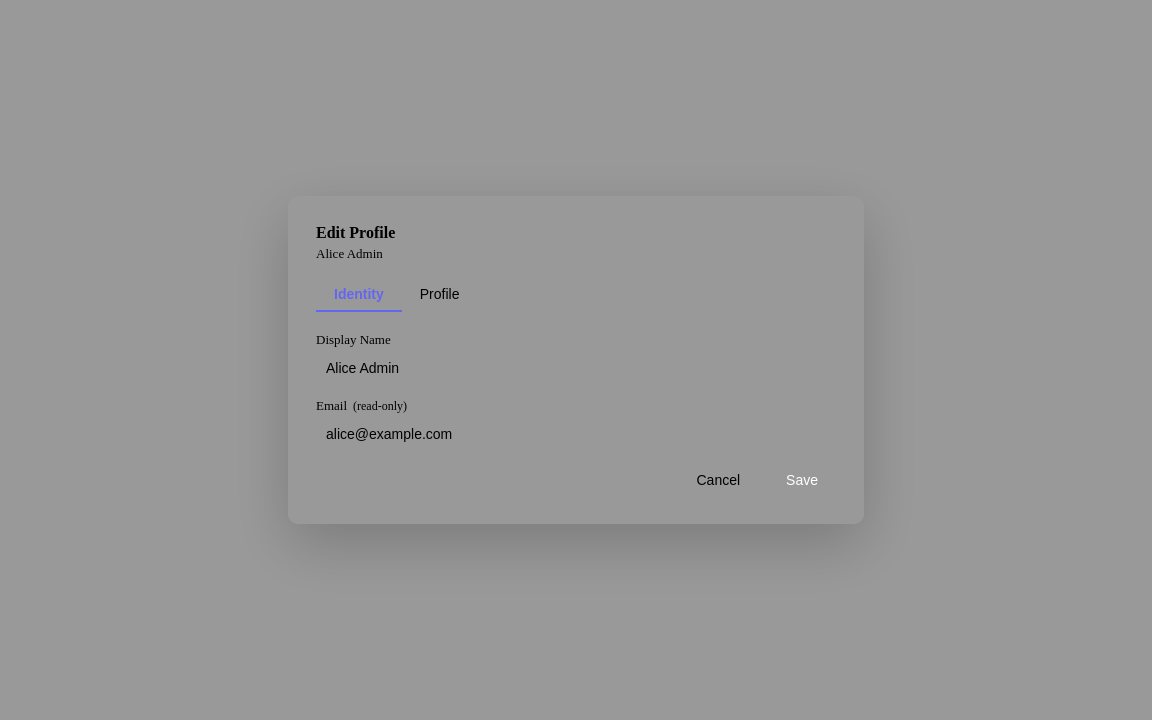
Test: EditProfileModal — UPS field pre-population › pre-populates full_name from upsProfile (Req 3.1)
Click the tab "Profile".
click(440, 295)  # box [402, 278, 478, 312]
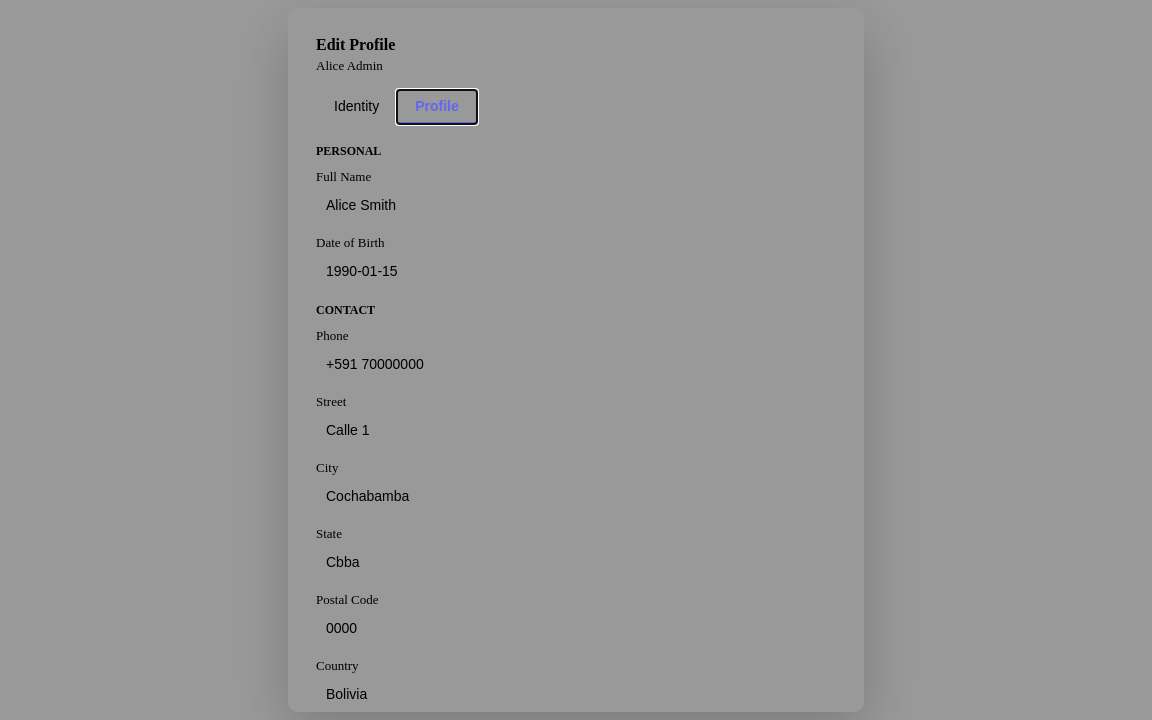
Result: the field labelled "Full Name" holds "Alice Smith" at [316, 189, 836, 221]
